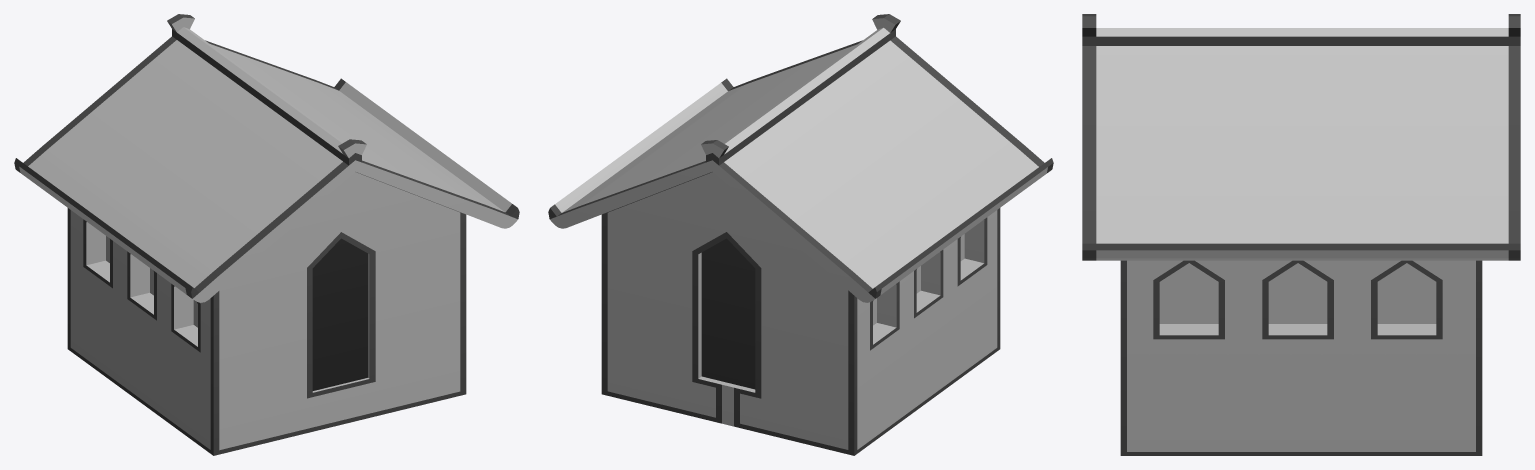
The model's file is hut.fbx.
3 renders of one model, left to right at view 1: azimuth 30°, elevation 25°; view 2: azimuth 150°, elevation 25°; view 3: azimuth 270°, elevation 25°, orthographic. The views are drawn at different scales.
Visible parts, largest first — view 1: Cube.349; view 2: Cube.349; view 3: Cube.349.
Boxes of the visible parts, x1=… form: Cube.349: x1=14, y1=14, x2=519, y2=455; Cube.349: x1=548, y1=14, x2=1053, y2=455; Cube.349: x1=1082, y1=14, x2=1520, y2=455.
Bounding box in the file's own units: 6.61 × 5.63 × 6.16.
1 material, 1 textured.
